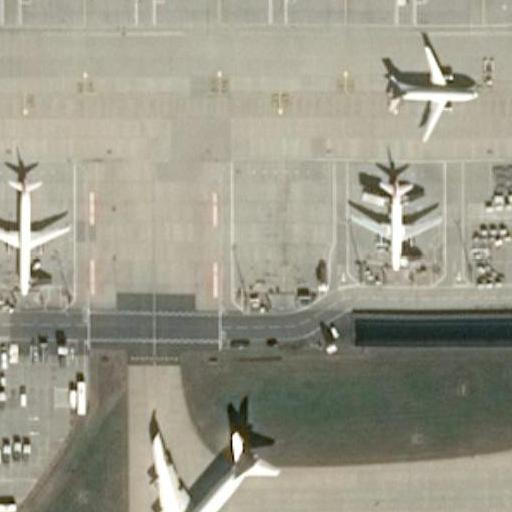Aircraft: (128, 418, 290, 512), (346, 173, 439, 269), (388, 45, 478, 138), (0, 177, 70, 289)
